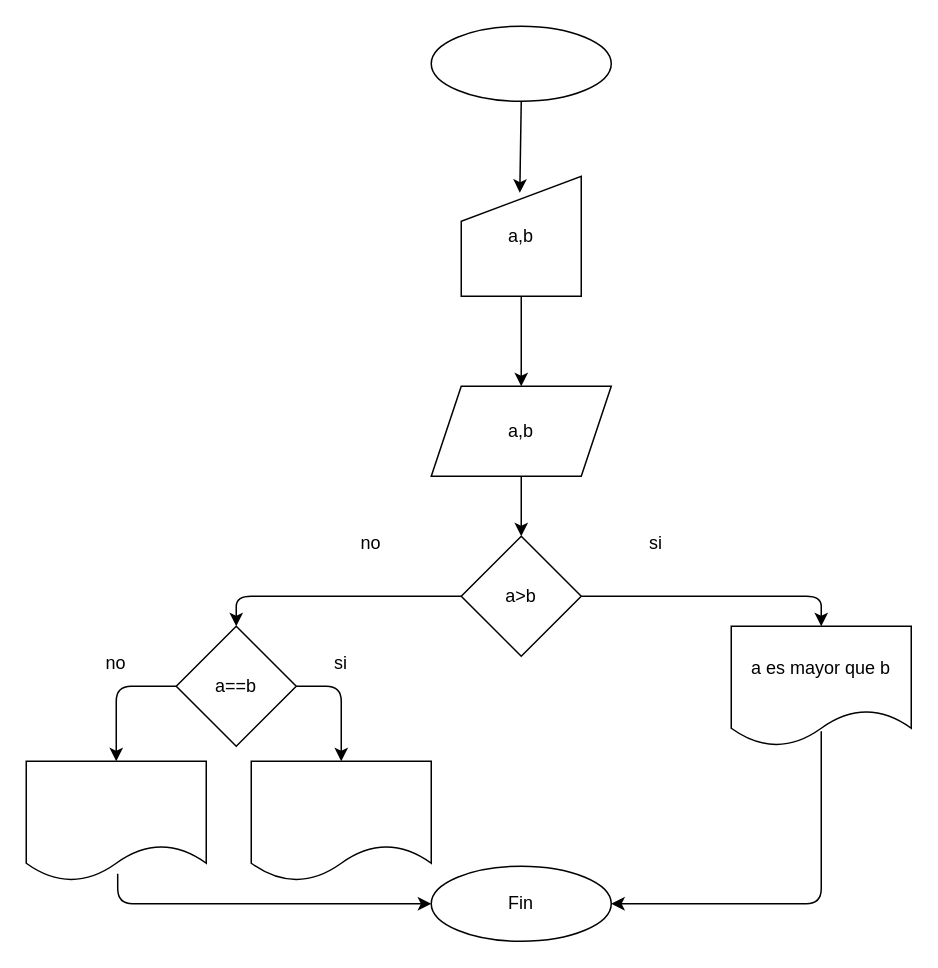
Image size: 938x968. Some labels were removed from this diagram. Each missing label, with the centre of its shape:
b es es mayor que a: (115,820)
Inicio: (520,63)
Los dos numeros son iguales: (340,820)
